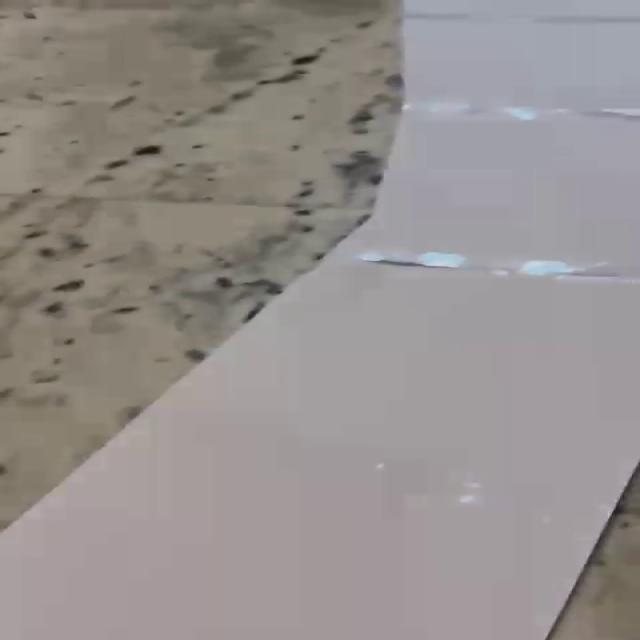road: (0, 0, 640, 640)
